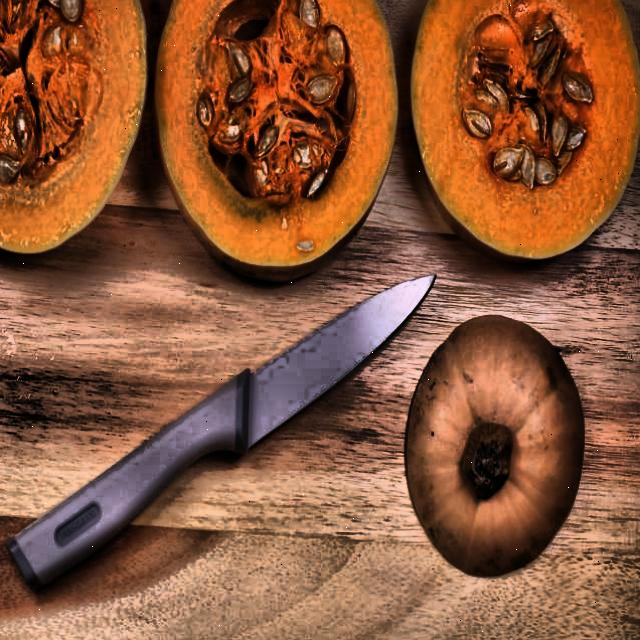knife: (7, 257, 444, 613)
